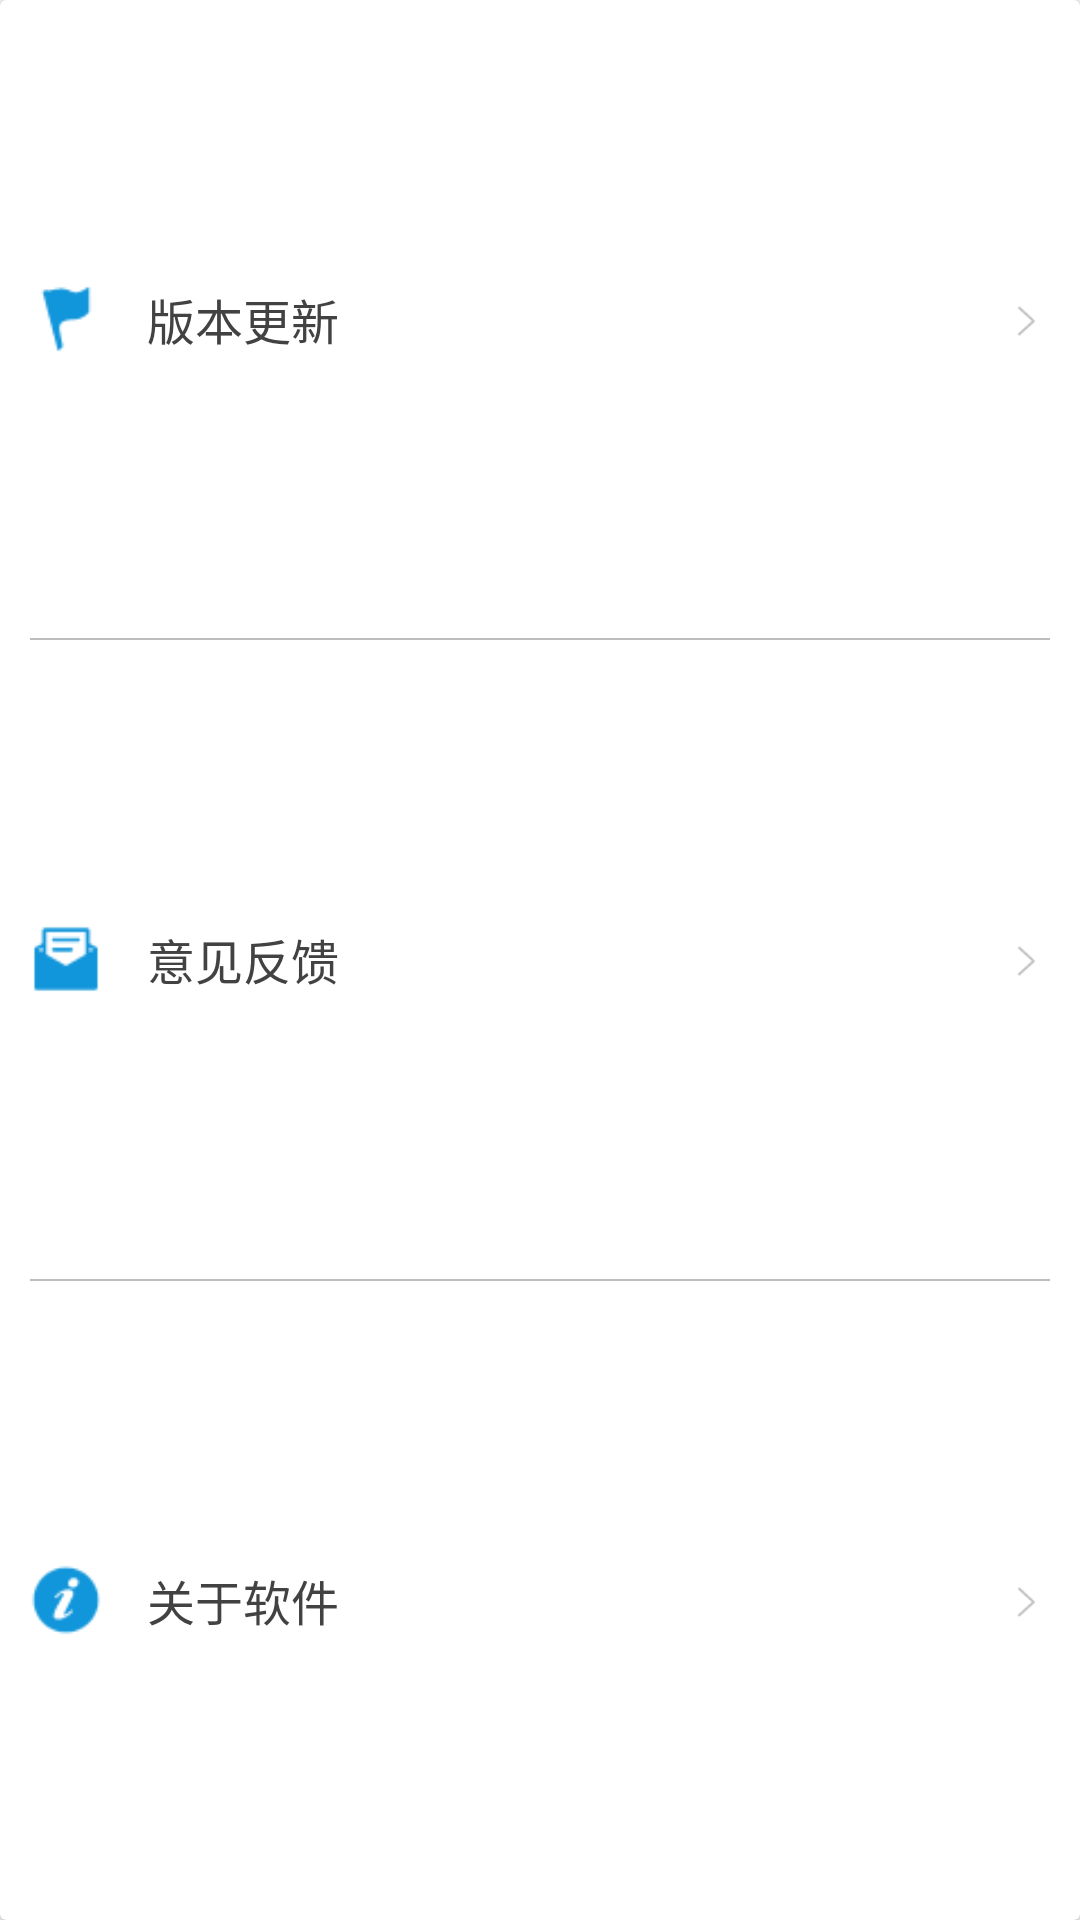

Icons on this 1080 x 1920 Android screen, each with the point to tap as point (x, y):
about: point (66, 1600)
feedback: point (66, 959)
into: point (1026, 321), point (1026, 961), point (1026, 1602)
